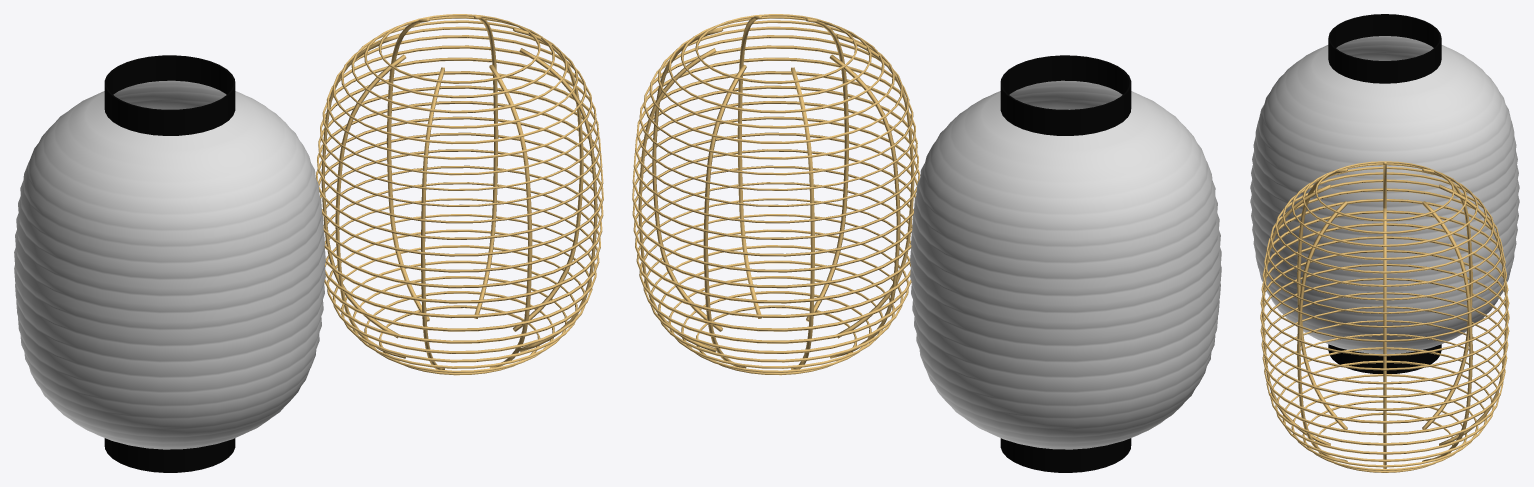
File: tyoutin_05.glb
3 renders of one model, left to right at view 1: azimuth 30°, elevation 25°; view 2: azimuth 150°, elevation 25°; view 3: azimuth 270°, elevation 25°, orthographic. The views are drawn at different scales.
Visible parts, largest first — view 1: body_球.002, bones_H_球.001, bones_V_球.001, top_球.001, under_球.001; view 2: body_球.002, bones_H_球.001, bones_V_球.001, top_球.001, under_球.001; view 3: body_球.002, bones_H_球.001, bones_V_球.001, top_球.001, under_球.001.
Part boxes in pixels (box(x1,y1,x2,y2)): body_球.002: box(14, 80, 325, 449); bones_H_球.001: box(316, 14, 603, 375); bones_V_球.001: box(321, 15, 597, 369); top_球.001: box(104, 55, 235, 135); under_球.001: box(104, 438, 235, 472); body_球.002: box(910, 80, 1221, 449); bones_H_球.001: box(632, 14, 920, 375); bones_V_球.001: box(638, 15, 914, 369); top_球.001: box(1000, 55, 1131, 135); under_球.001: box(1000, 438, 1131, 472); body_球.002: box(1250, 36, 1519, 353); bones_H_球.001: box(1260, 161, 1509, 472); bones_V_球.001: box(1262, 162, 1507, 468); top_球.001: box(1328, 14, 1441, 83); under_球.001: box(1328, 344, 1441, 373).
Bounding box in the file's own units: 12.63 × 7.95 × 6.21.
